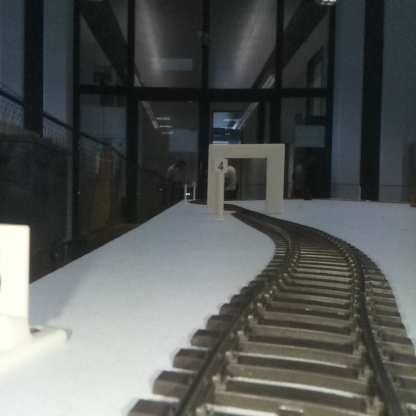white-info-4: (214, 159, 227, 220)
